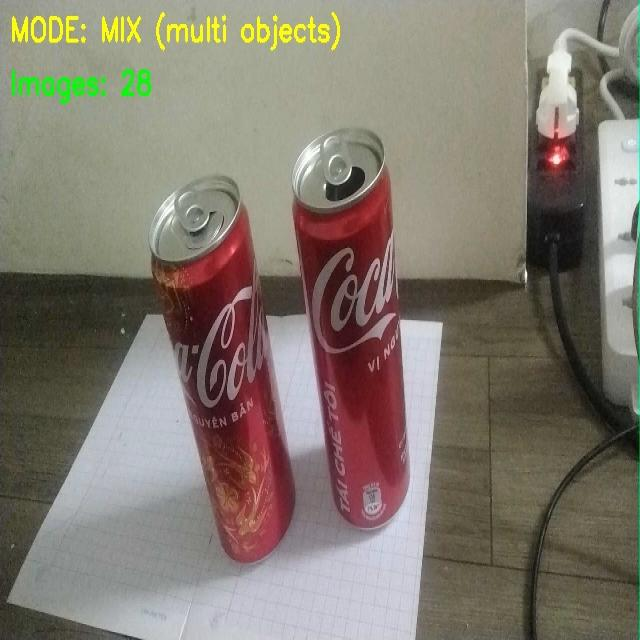Coca: (144, 156, 300, 578)
Coca_open: (296, 119, 456, 546)
